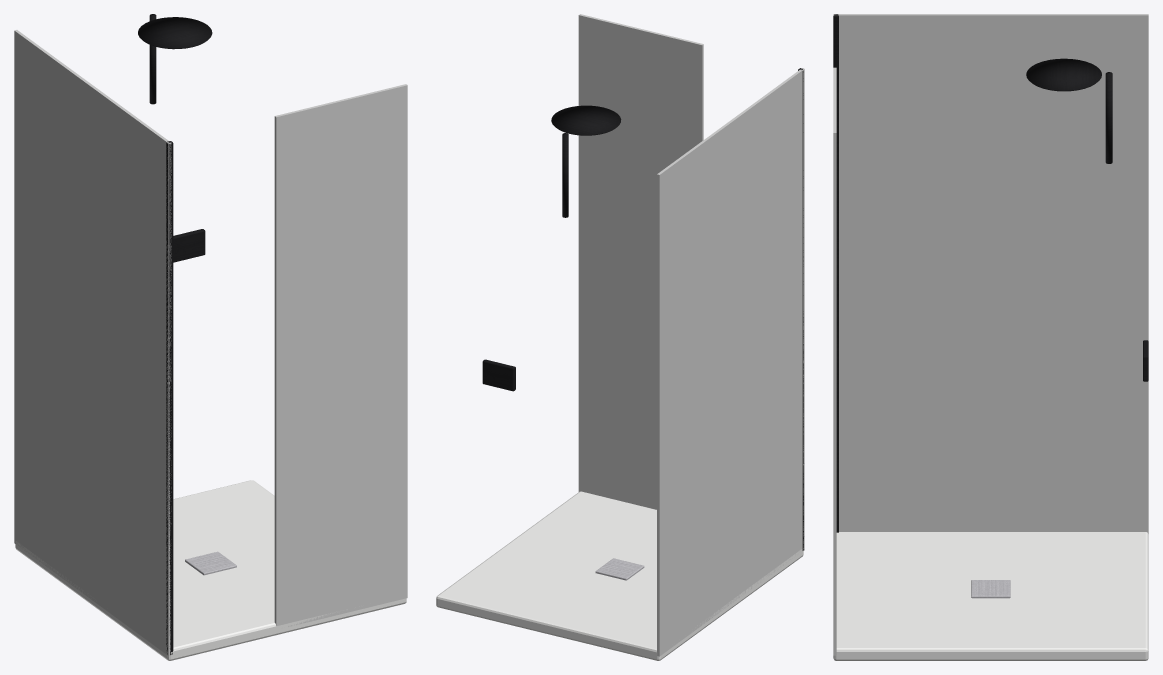
The model's file is bath2_shower.glb.
3 renders of one model, left to right at view 1: azimuth 30°, elevation 25°; view 2: azimuth 150°, elevation 25°; view 3: azimuth 270°, elevation 25°, orthographic. The views are drawn at different scales.
Visible parts, largest first — view 1: bath2_shower; view 2: bath2_shower; view 3: bath2_shower.
Part boxes in pixels (left/top/right/bottom): bath2_shower: left=14, top=14, right=407, bottom=660; bath2_shower: left=436, top=14, right=804, bottom=660; bath2_shower: left=833, top=14, right=1148, bottom=660.
Bounding box in the file's own units: 1 × 2.08 × 1.12.
Materials: 4 (2 with a texture image).
